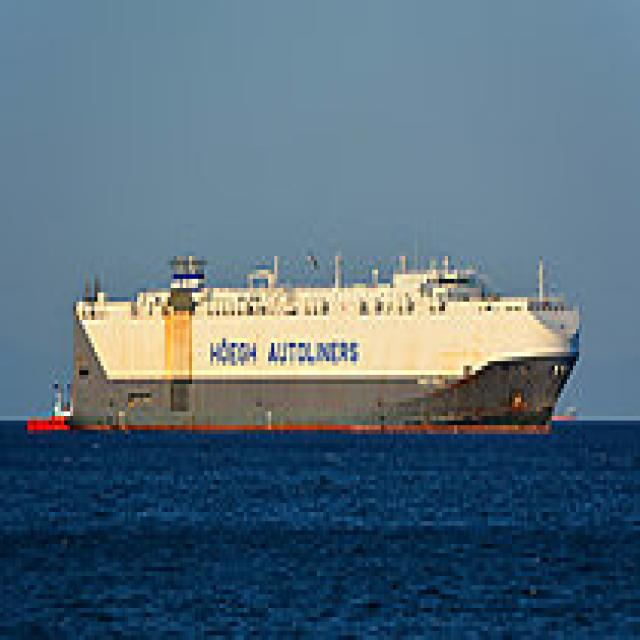Carrier: (67, 242, 582, 439)
